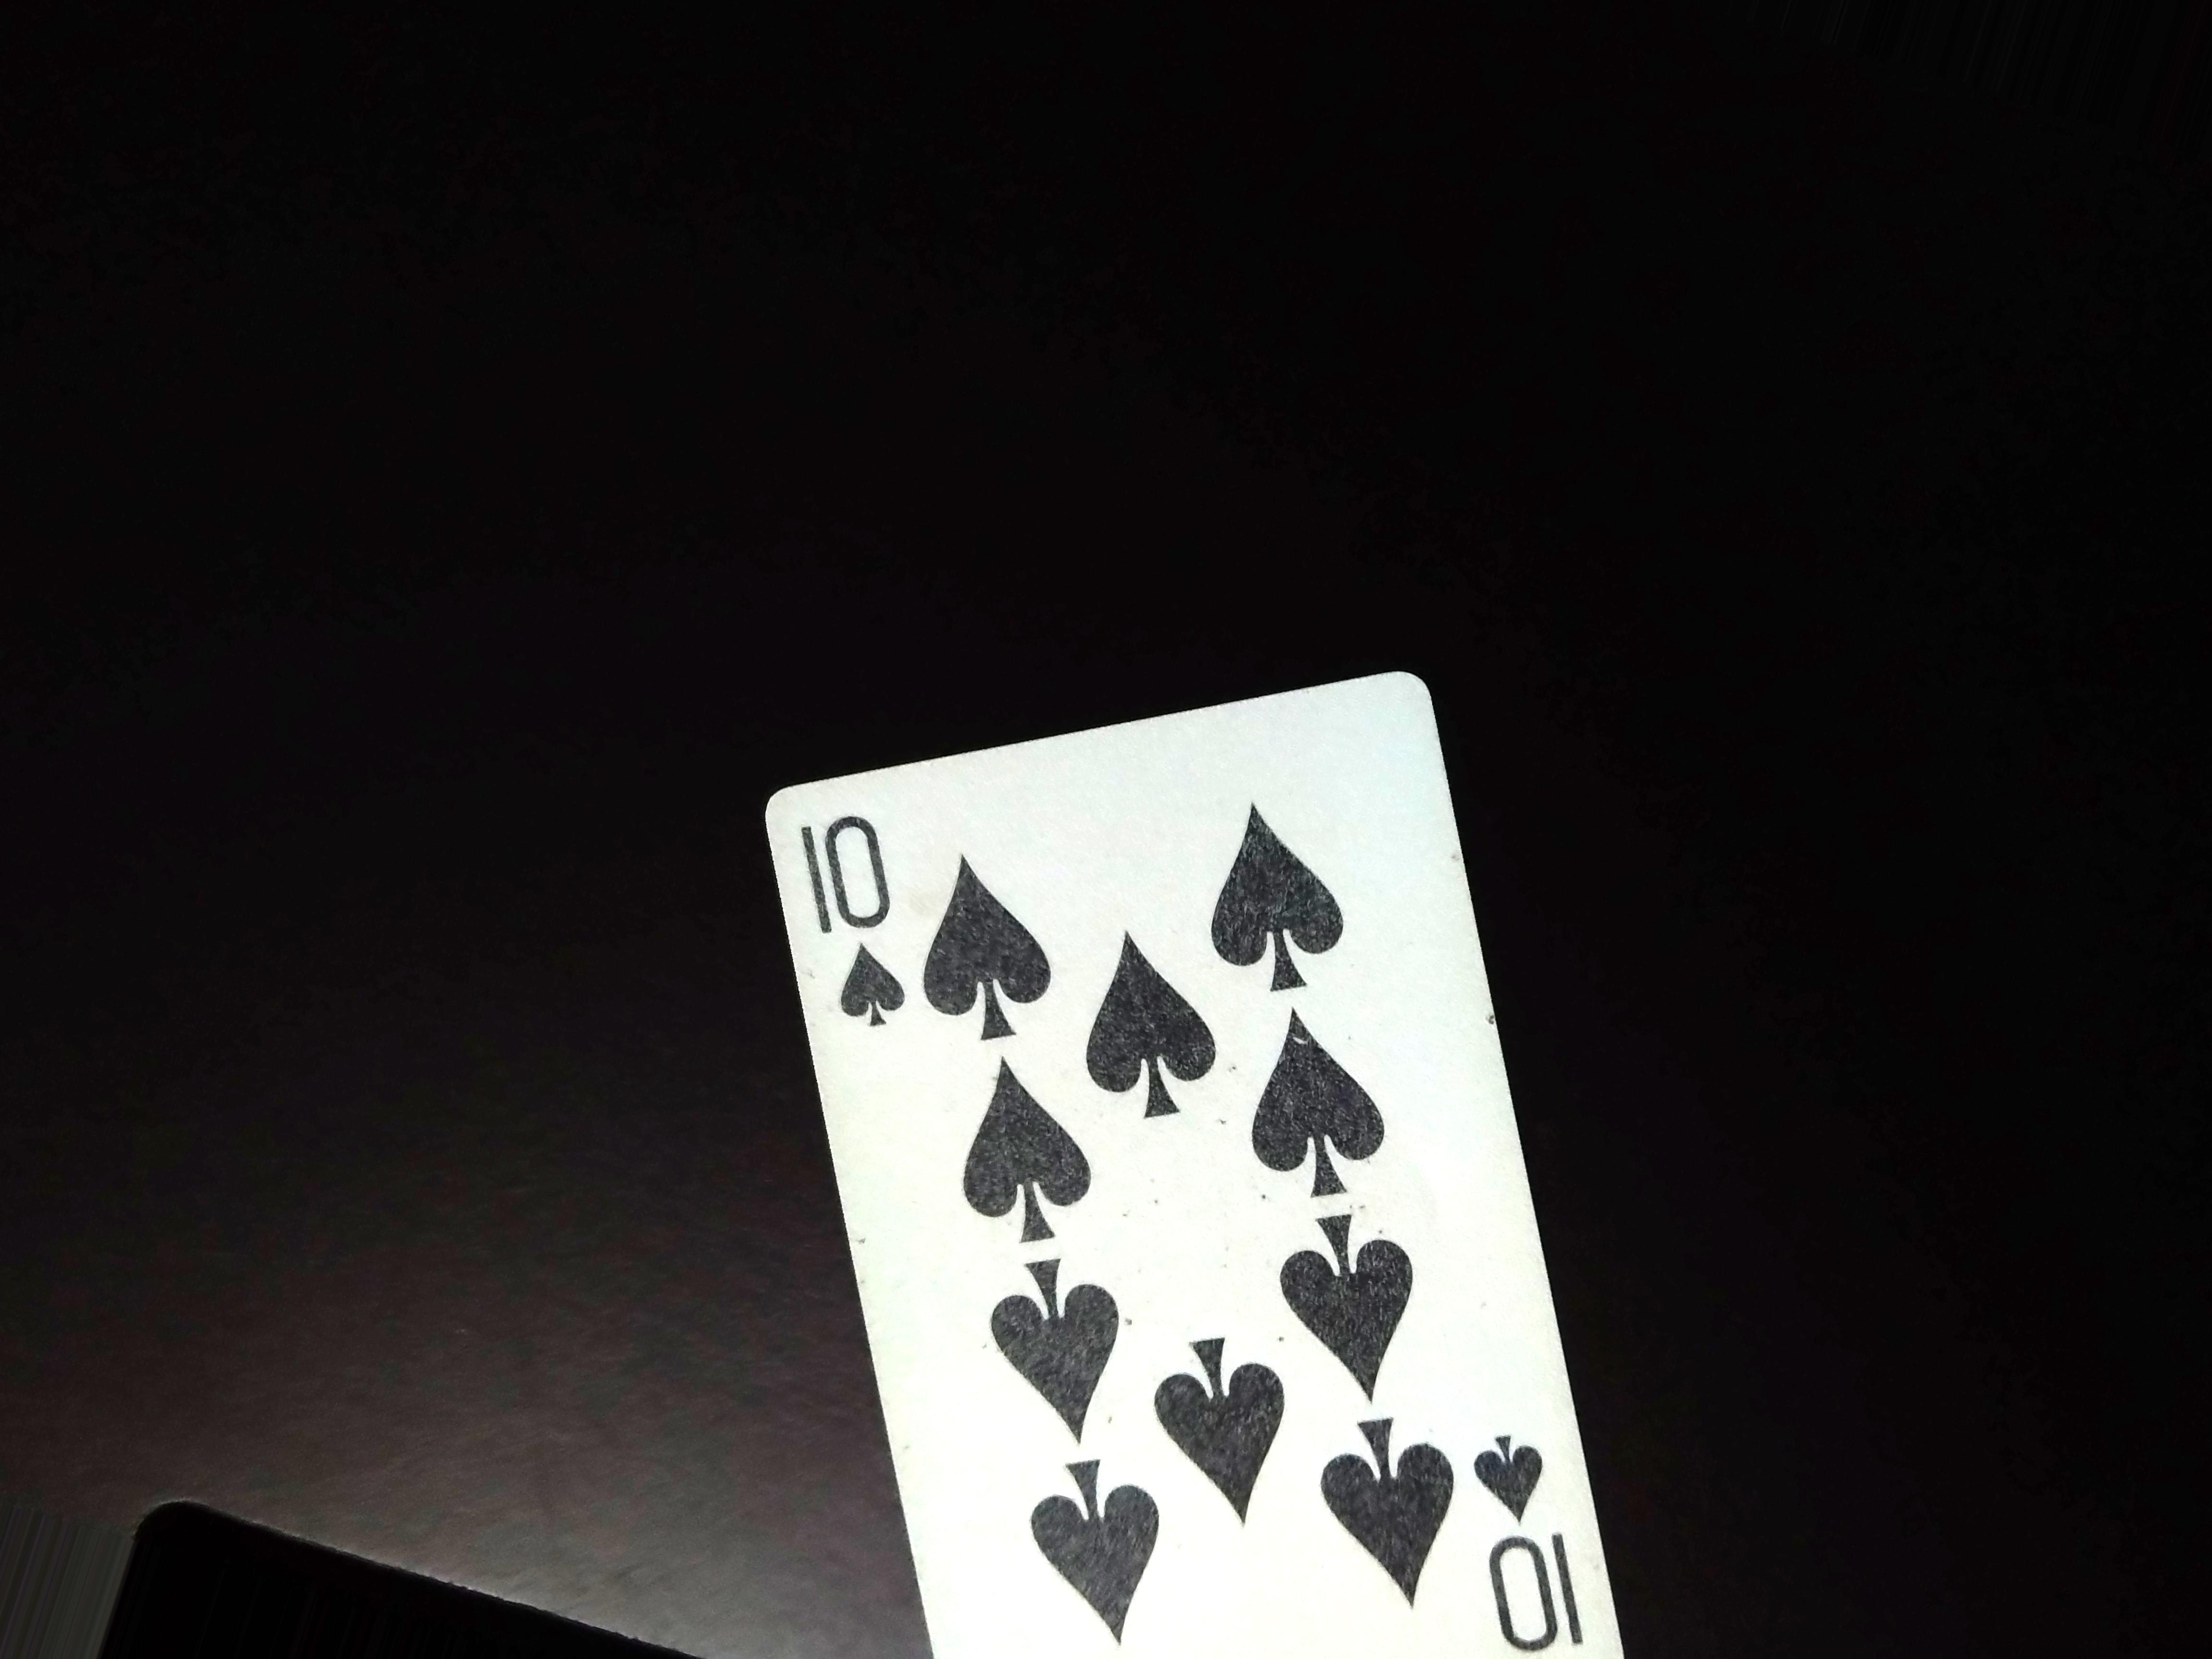10S: (792, 809, 934, 1040)
